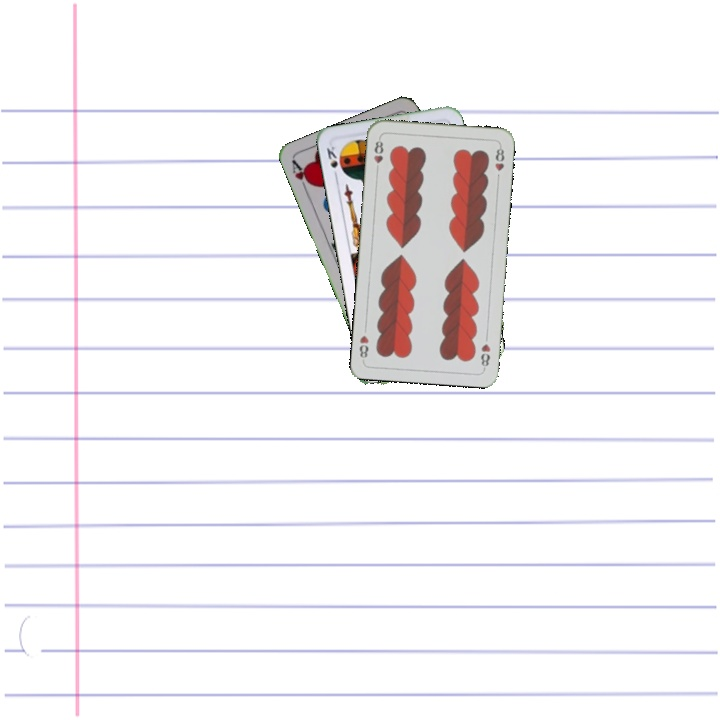H8: (370, 134, 386, 174), (477, 340, 493, 371)
HA: (288, 156, 314, 196)
SK: (322, 142, 345, 182)
